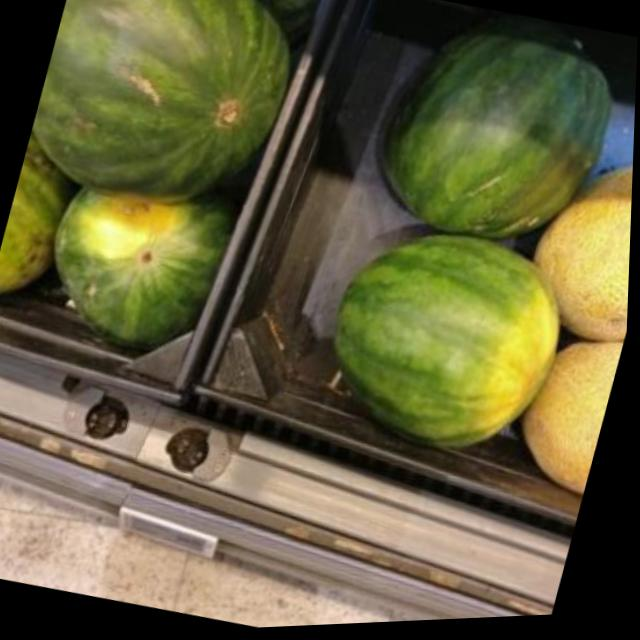Cantaloupe: (518, 148, 635, 353), (508, 333, 625, 504)
Watermelon: (309, 209, 582, 478), (364, 5, 631, 272), (17, 0, 311, 234), (33, 169, 236, 365)
